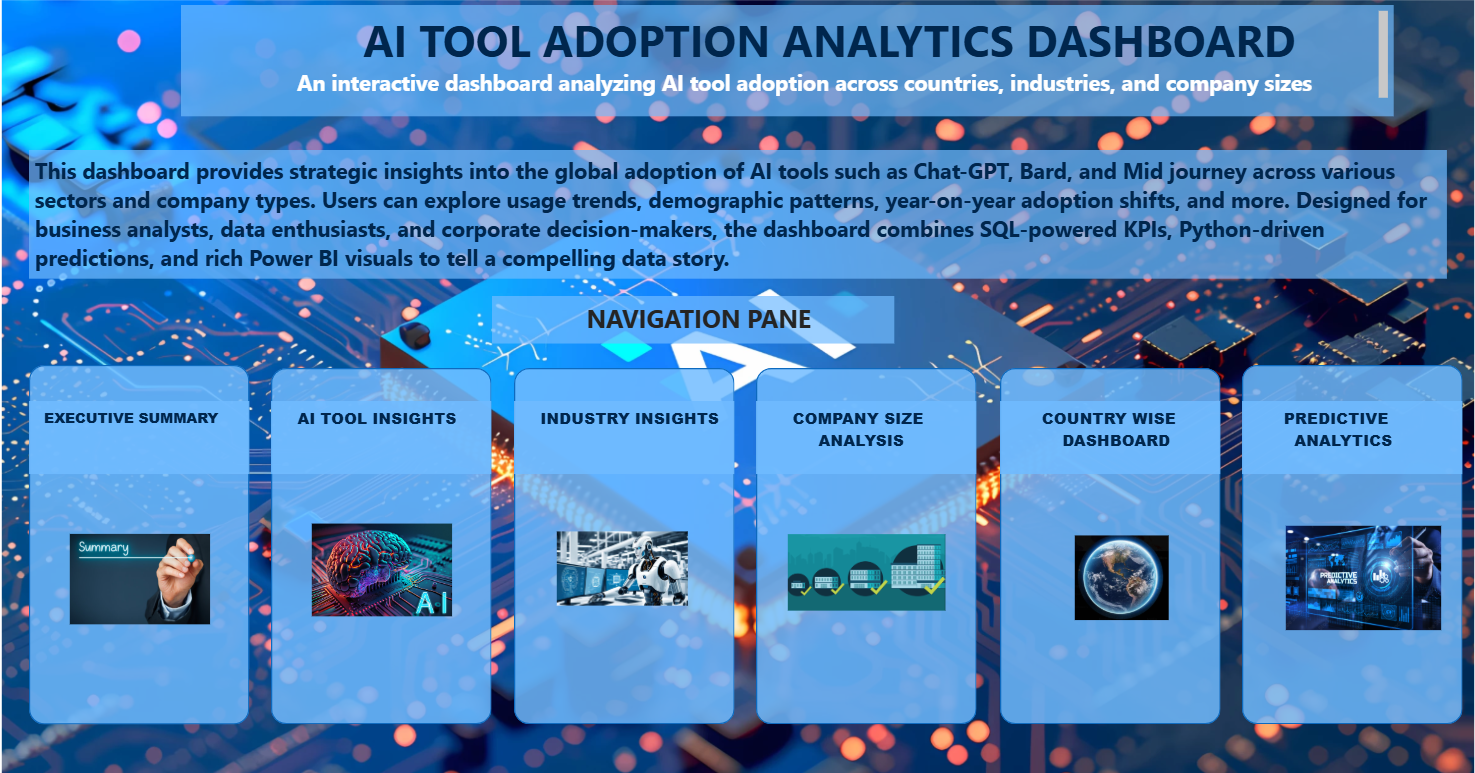

The page's visual inventory and layout, read from the dashboard file:
{"tool":"powerbi","page":{"name":"INDEX","canvas":[1280,720],"ordinal":0},"visuals":[{"type":"image","box":[0,0,1280,720.3],"z":0},{"type":"textbox","box":[159.2,29.9,1046.2,95.8],"z":1000},{"type":"textbox","box":[28.6,155.5,1222.8,110.7],"z":2000},{"type":"shape","box":[28.6,340.8,190,310],"z":3000},{"type":"shape","box":[237.6,343.3,190.3,307.3],"z":4000},{"type":"shape","box":[446.6,343.3,190.3,307.3],"z":5000},{"type":"shape","box":[655.6,343.3,190.3,307.3],"z":6000},{"type":"shape","box":[865.8,343.3,190.3,307.3],"z":7000},{"type":"shape","box":[1074.8,340.8,190.3,309.7],"z":8000},{"type":"textbox","box":[427.9,281.1,347.1,41.1],"z":9000},{"type":"textbox","box":[28.6,371.9,190.3,63.4],"z":10000},{"type":"textbox","box":[237.6,371.9,190.3,63.4],"z":11000},{"type":"textbox","box":[446.6,371.9,190.3,63.4],"z":12000},{"type":"textbox","box":[655.6,371.9,190.3,63.4],"z":13000},{"type":"textbox","box":[865.8,371.9,190.3,63.4],"z":14000},{"type":"textbox","box":[1074.8,371.9,190.3,63.4],"z":15000},{"type":"image","box":[267.5,442.8,130.6,150.5],"z":16000},{"type":"image","box":[478.9,450.3,123.2,131.9],"z":17000},{"type":"image","box":[678,435.4,145.5,167.9],"z":18000},{"type":"image","box":[925.5,478.9,90.8,90.8],"z":19000},{"type":"image","box":[1107.1,449.1,144.3,150.5],"z":20000},{"type":"image","box":[58.5,449.1,130.6,151.8],"z":21000}]}

Visuals, with their boxes on the page's 1280x720 design canvas (x1, y1, x2, y2). These are canvas units, not pixel positions in the 1475x773 screenshot, which may show the page scaled, cropped or inside an application window:
image: locate(0, 0, 1280, 720)
textbox: locate(159, 30, 1205, 126)
textbox: locate(29, 156, 1251, 266)
shape: locate(29, 341, 219, 651)
shape: locate(238, 343, 428, 651)
shape: locate(447, 343, 637, 651)
shape: locate(656, 343, 846, 651)
shape: locate(866, 343, 1056, 651)
shape: locate(1075, 341, 1265, 650)
textbox: locate(428, 281, 775, 322)
textbox: locate(29, 372, 219, 435)
textbox: locate(238, 372, 428, 435)
textbox: locate(447, 372, 637, 435)
textbox: locate(656, 372, 846, 435)
textbox: locate(866, 372, 1056, 435)
textbox: locate(1075, 372, 1265, 435)
image: locate(268, 443, 398, 593)
image: locate(479, 450, 602, 582)
image: locate(678, 435, 824, 603)
image: locate(926, 479, 1016, 570)
image: locate(1107, 449, 1251, 600)
image: locate(58, 449, 189, 601)
